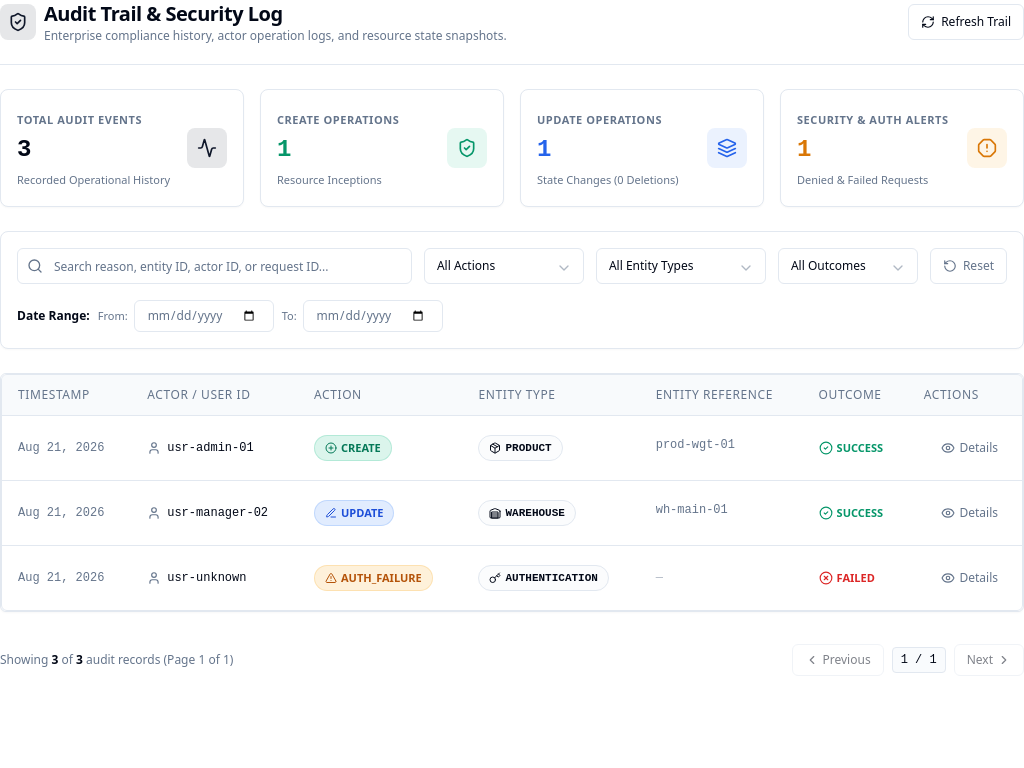
Audit Logs Management Suite › opens Audit Log Detail modal when view details action is clicked
This screenshot has width=1024, height=768.
Click the button "Details" in the row of "usr-admin-01": point(970, 448) [934,432,1006,464]
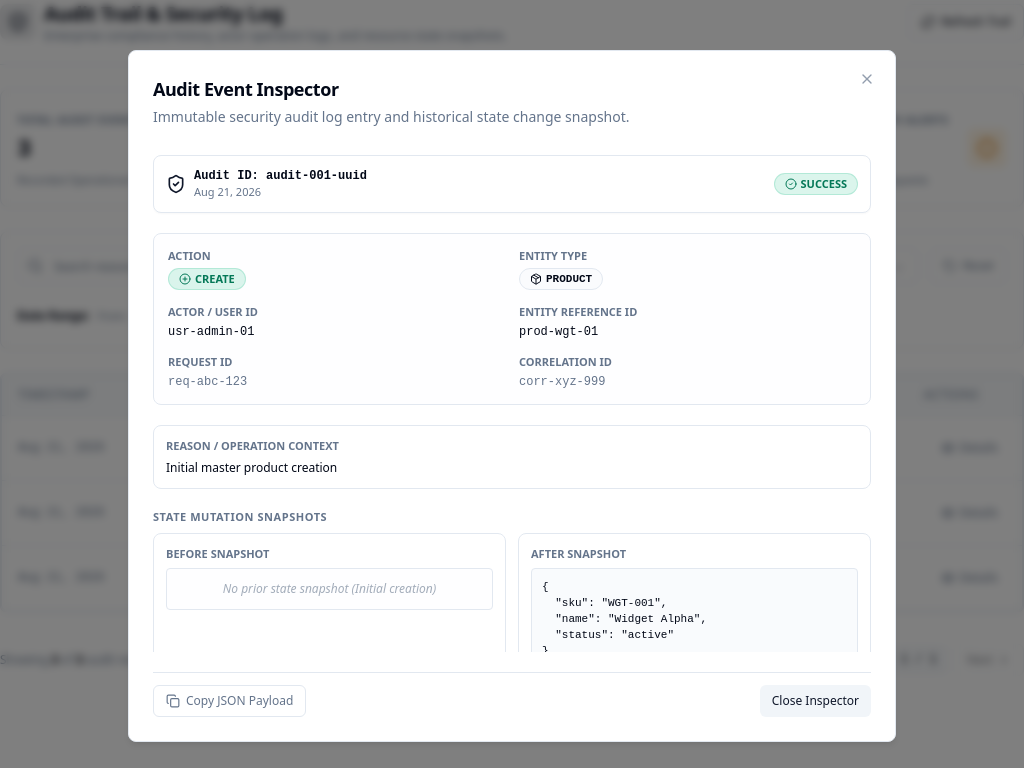
Expected: the heading "Audit Event Inspector" is shown, [153,77,339,101]
Expected: the text "Audit ID: audit-001-uuid" is shown, [194,168,367,184]
Expected: the text "Initial master product creation" is shown, [166,459,337,476]
